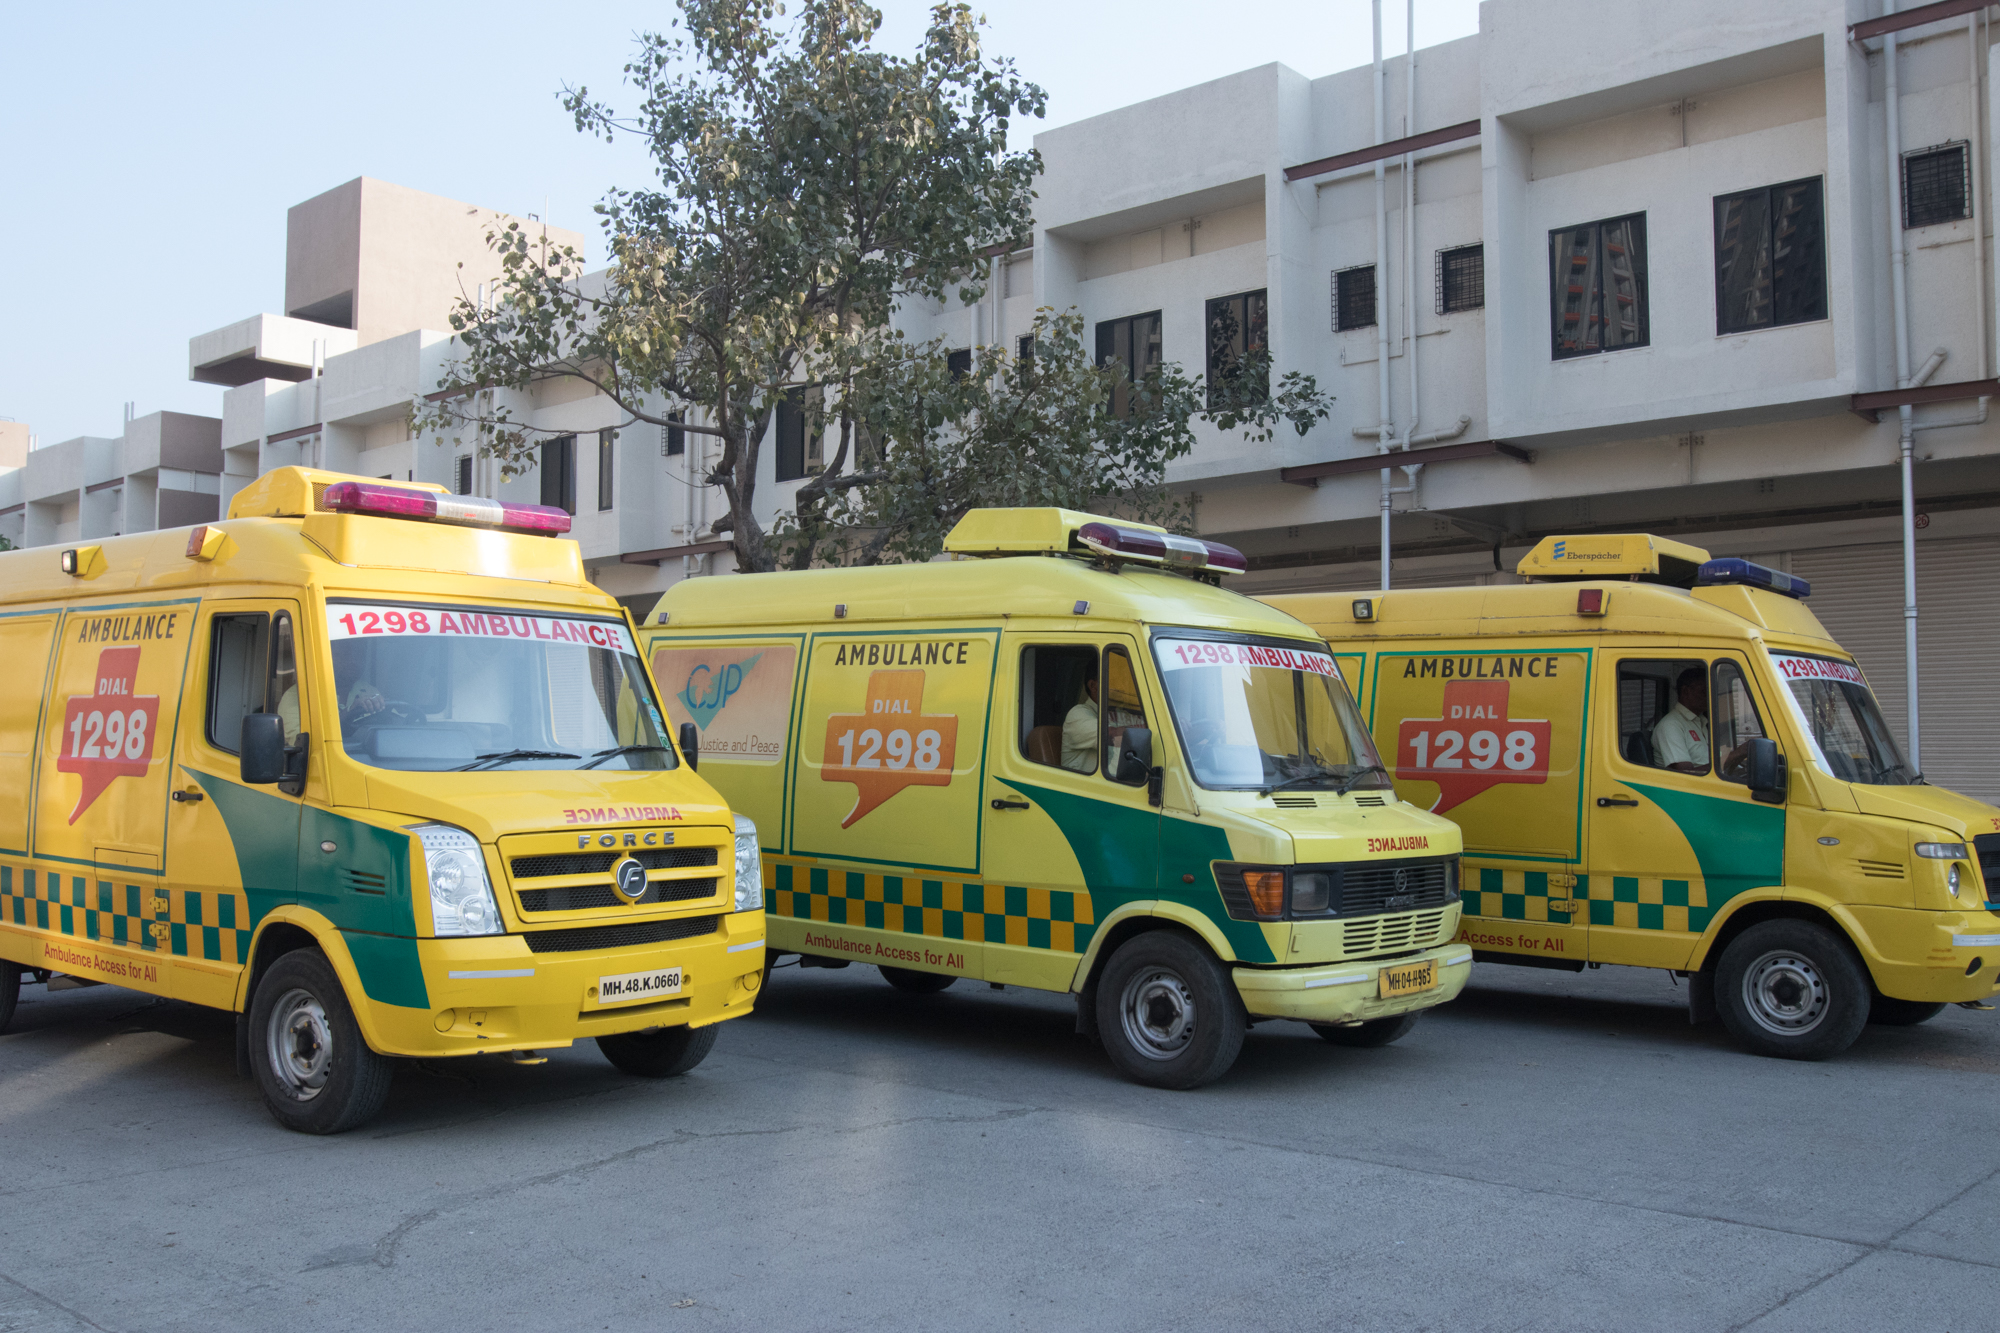ambulance: (51, 431, 804, 1221), (906, 498, 1539, 1154), (1627, 498, 2000, 1018)
